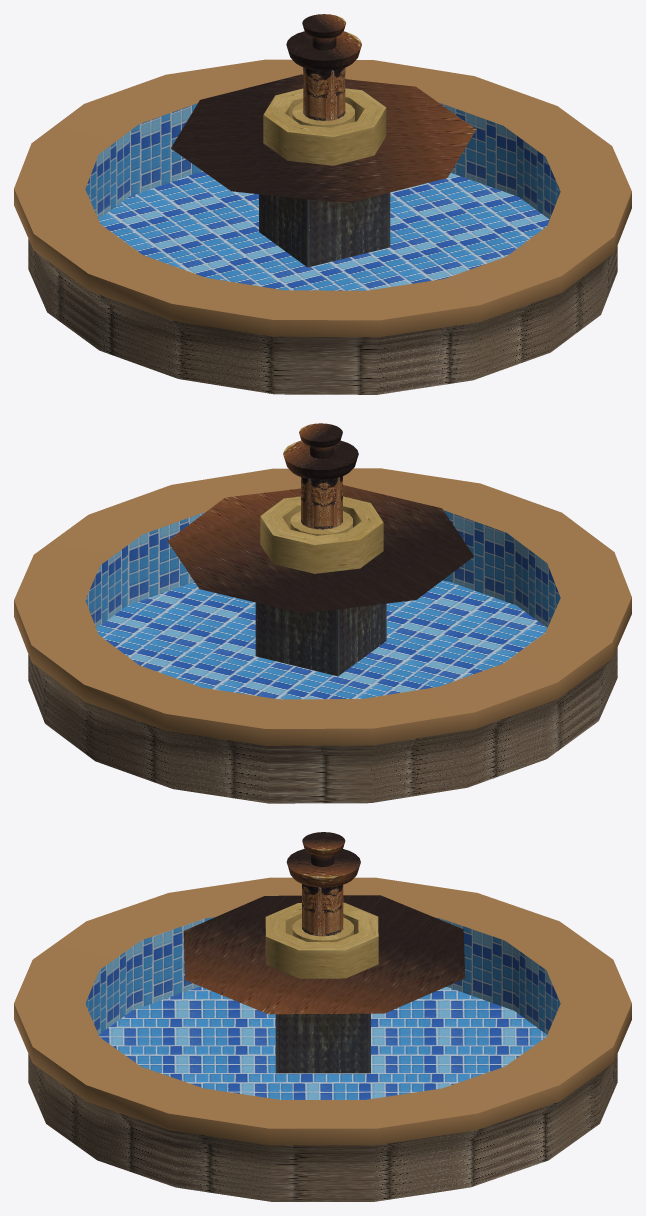
File: OMFountain.FBX
3 renders of one model, top to bottom at view 1: azimuth 30°, elevation 25°; view 2: azimuth 150°, elevation 25°; view 3: azimuth 270°, elevation 25°, orthographic.
Parts seen in each view (by area): view 1: Tube001, Cylinder007, Cylinder003, Tube003, Box001, Tube002, Cylinder005, Cone001, Cone002, Cylinder004; view 2: Tube001, Cylinder007, Cylinder003, Tube003, Box001, Tube002, Cylinder005, Cone001, Cone002, Cylinder004; view 3: Tube001, Cylinder007, Cylinder003, Tube003, Tube002, Box001, Cylinder005, Cone001, Cone002, Cylinder004.
Part boxes in pixels (x1=…): Tube001: x1=14, y1=59, x2=631, y2=394; Cylinder007: x1=98, y1=172, x2=549, y2=290; Cylinder003: x1=171, y1=74, x2=476, y2=203; Tube003: x1=85, y1=102, x2=560, y2=219; Box001: x1=259, y1=192, x2=390, y2=267; Tube002: x1=263, y1=88, x2=386, y2=165; Cylinder005: x1=303, y1=67, x2=345, y2=120; Cone001: x1=286, y1=31, x2=361, y2=70; Cone002: x1=302, y1=14, x2=345, y2=38; Cylinder004: x1=292, y1=102, x2=354, y2=127; Tube001: x1=14, y1=468, x2=631, y2=803; Cylinder007: x1=96, y1=580, x2=547, y2=699; Cylinder003: x1=167, y1=485, x2=473, y2=613; Tube003: x1=85, y1=510, x2=560, y2=627; Box001: x1=255, y1=602, x2=386, y2=676; Tube002: x1=260, y1=496, x2=383, y2=573; Cylinder005: x1=301, y1=476, x2=342, y2=529; Cone001: x1=283, y1=440, x2=358, y2=479; Cone002: x1=299, y1=423, x2=342, y2=447; Cylinder004: x1=290, y1=511, x2=352, y2=535; Tube001: x1=14, y1=877, x2=631, y2=1201; Cylinder007: x1=99, y1=986, x2=546, y2=1099; Cylinder003: x1=183, y1=895, x2=465, y2=1014; Tube003: x1=85, y1=917, x2=560, y2=1034; Tube002: x1=265, y1=902, x2=378, y2=978; Box001: x1=275, y1=1013, x2=370, y2=1073; Cylinder005: x1=302, y1=884, x2=343, y2=936; Cone001: x1=286, y1=849, x2=360, y2=887; Cone002: x1=302, y1=832, x2=345, y2=855; Cylinder004: x1=292, y1=917, x2=353, y2=941.
Bounding box in the file's own units: 127 × 56.96 × 132.
